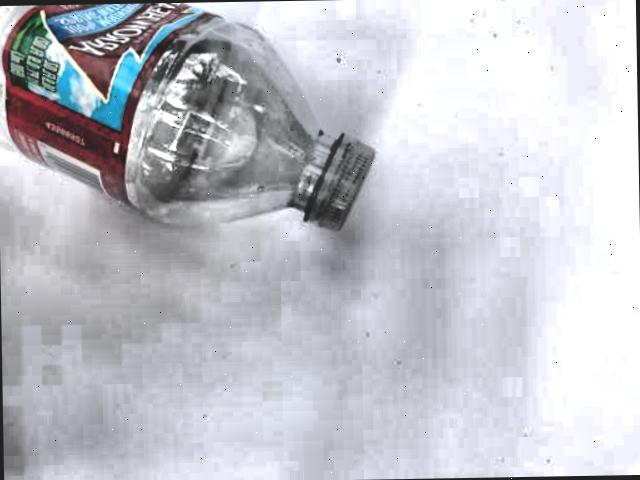Bottles: (1, 4, 400, 237)
